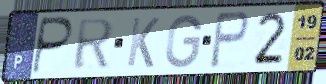2: (253, 11, 290, 66)
G: (163, 13, 204, 70)
K: (125, 16, 162, 70)
P: (29, 15, 76, 76), (207, 9, 251, 70)
R: (72, 17, 117, 72)
